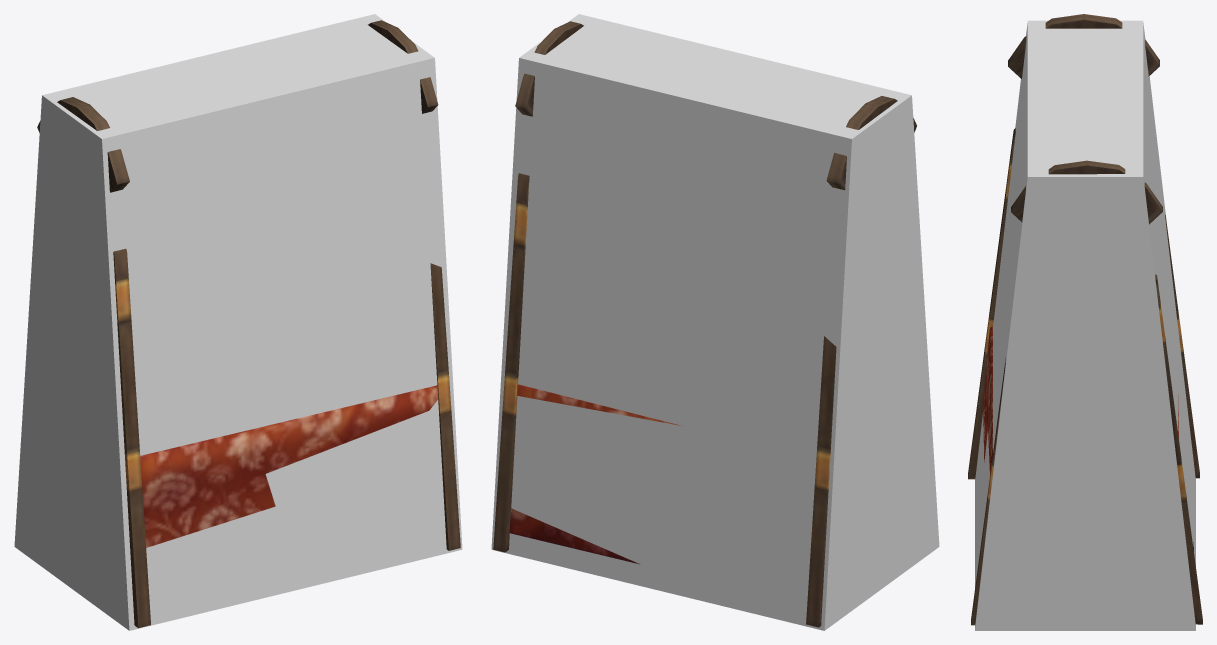
Rendered from YHJ_bujia.FBX.
3 renders of one model, left to right at view 1: azimuth 30°, elevation 25°; view 2: azimuth 150°, elevation 25°; view 3: azimuth 270°, elevation 25°, orthographic. The views are drawn at different scales.
Visible parts, largest first — view 1: YHJ_bujia-col, YHJ_bujia; view 2: YHJ_bujia-col, YHJ_bujia; view 3: YHJ_bujia-col, YHJ_bujia.
Part boxes in pixels (x1=…): YHJ_bujia-col: x1=14, y1=14, x2=462, y2=630; YHJ_bujia: x1=37, y1=20, x2=460, y2=628; YHJ_bujia-col: x1=491, y1=14, x2=939, y2=630; YHJ_bujia: x1=493, y1=21, x2=916, y2=627; YHJ_bujia-col: x1=975, y1=20, x2=1195, y2=630; YHJ_bujia: x1=968, y1=14, x2=1202, y2=625.
Bounding box in the file's own units: 1.96 × 2.7 × 1.24.
